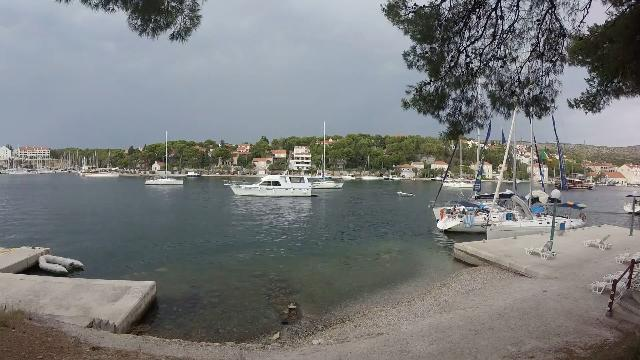Freighter: (216, 166, 314, 200)
Sailboat: (142, 170, 188, 190), (304, 170, 350, 190)
speedboat: (394, 184, 418, 200)
